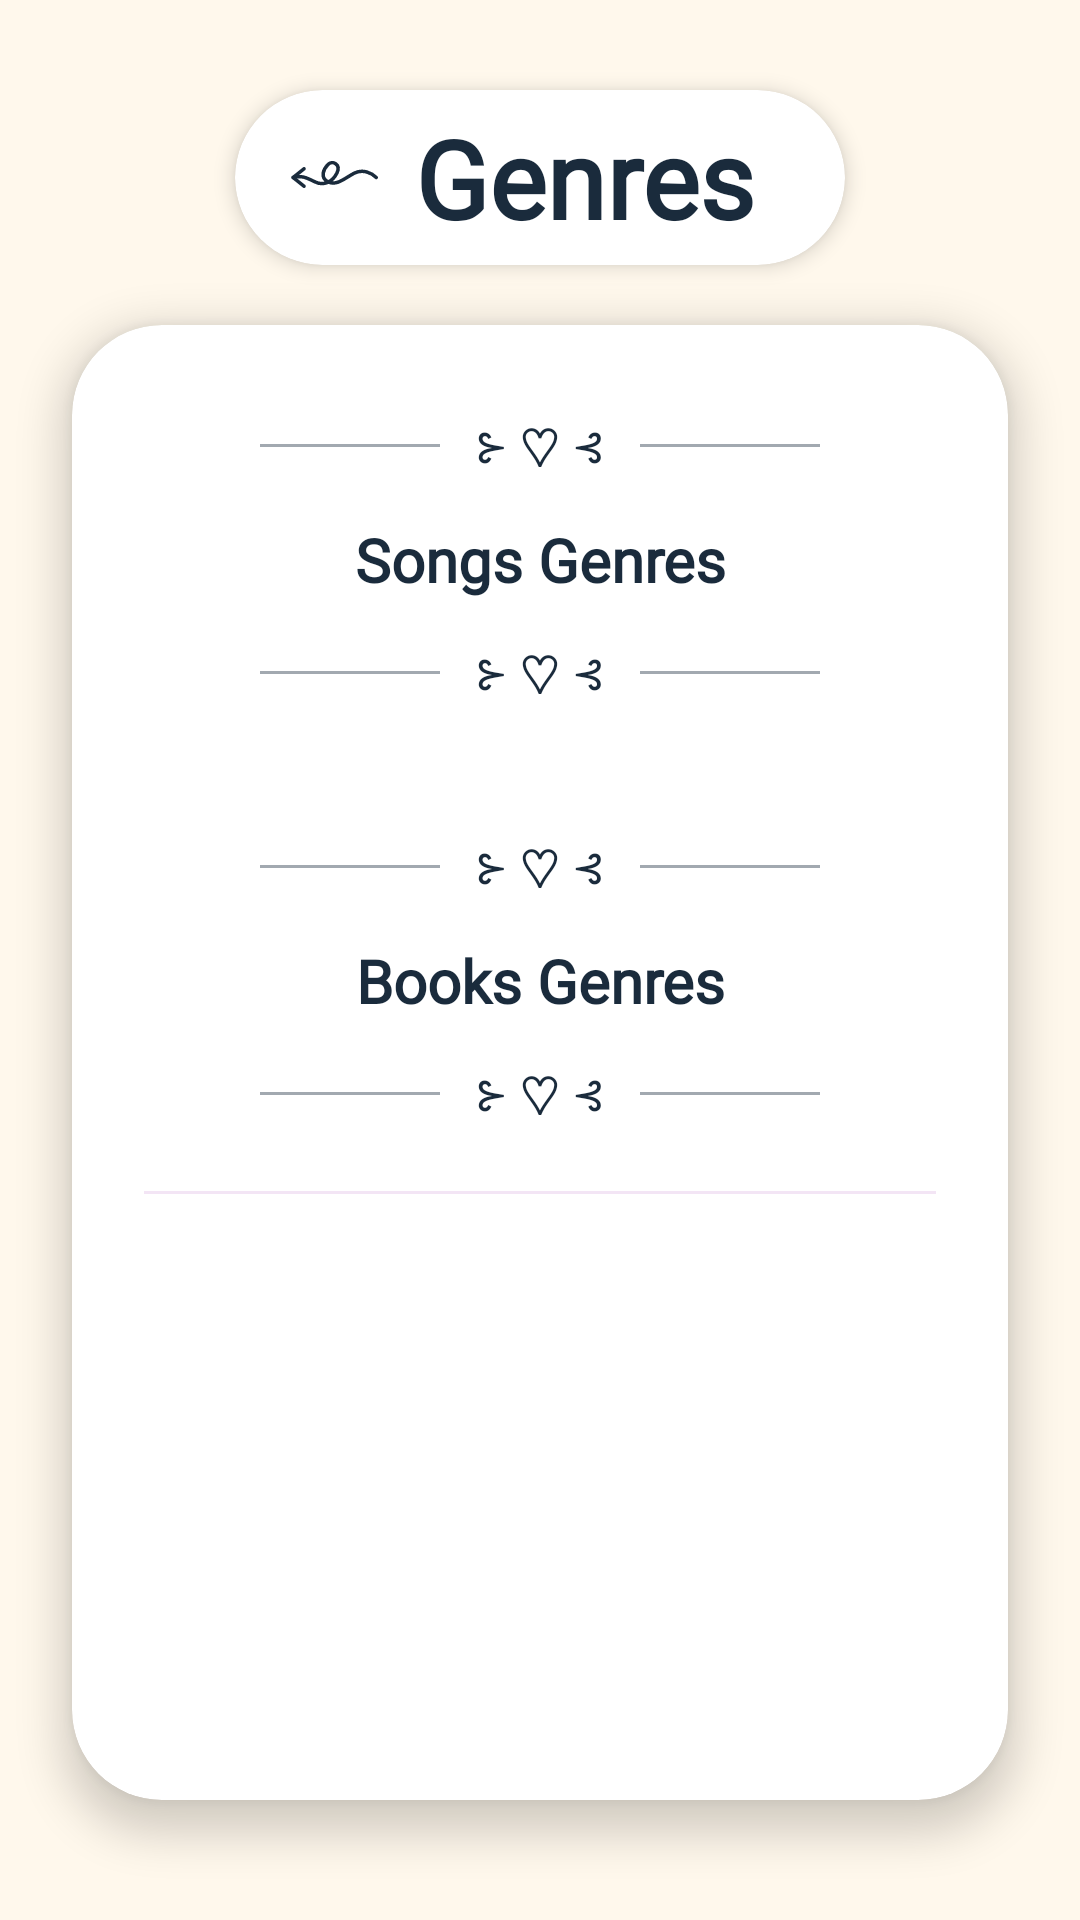

Named icons in this screenshot (1080px x 1920px) and their centers, [x,y]:
Back: [334,174]
